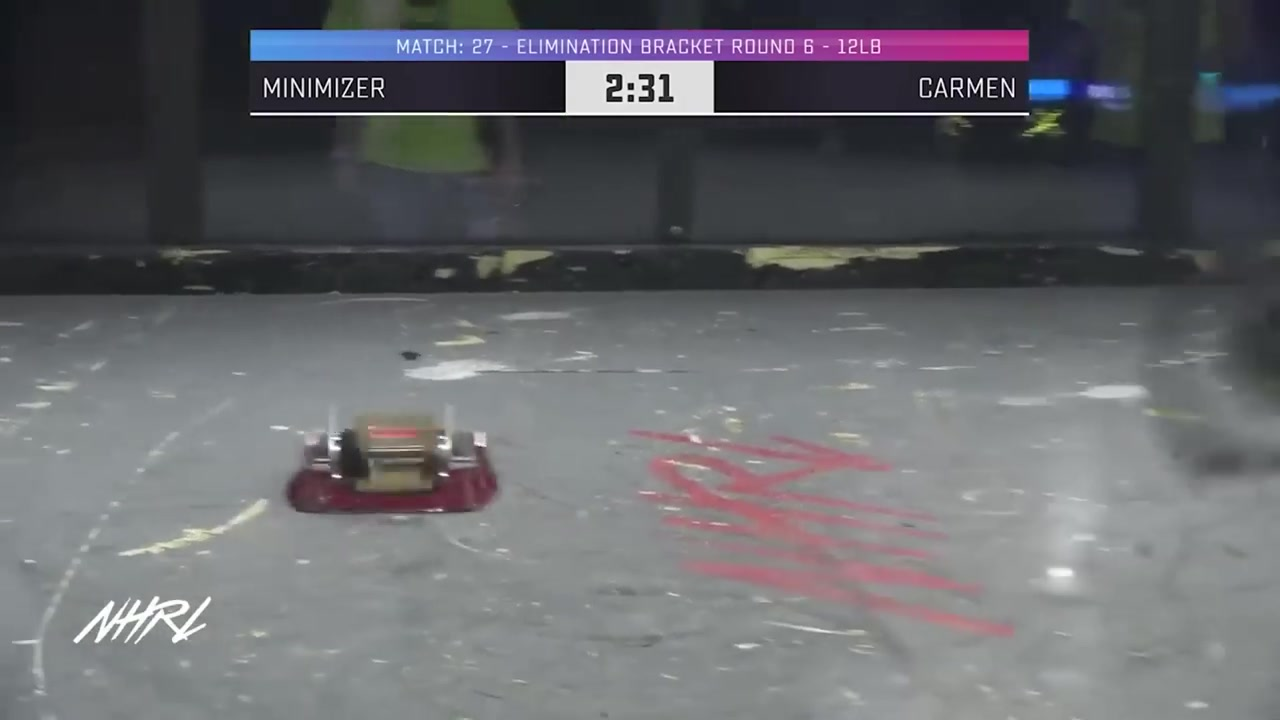combatbot: (288, 406, 498, 517)
